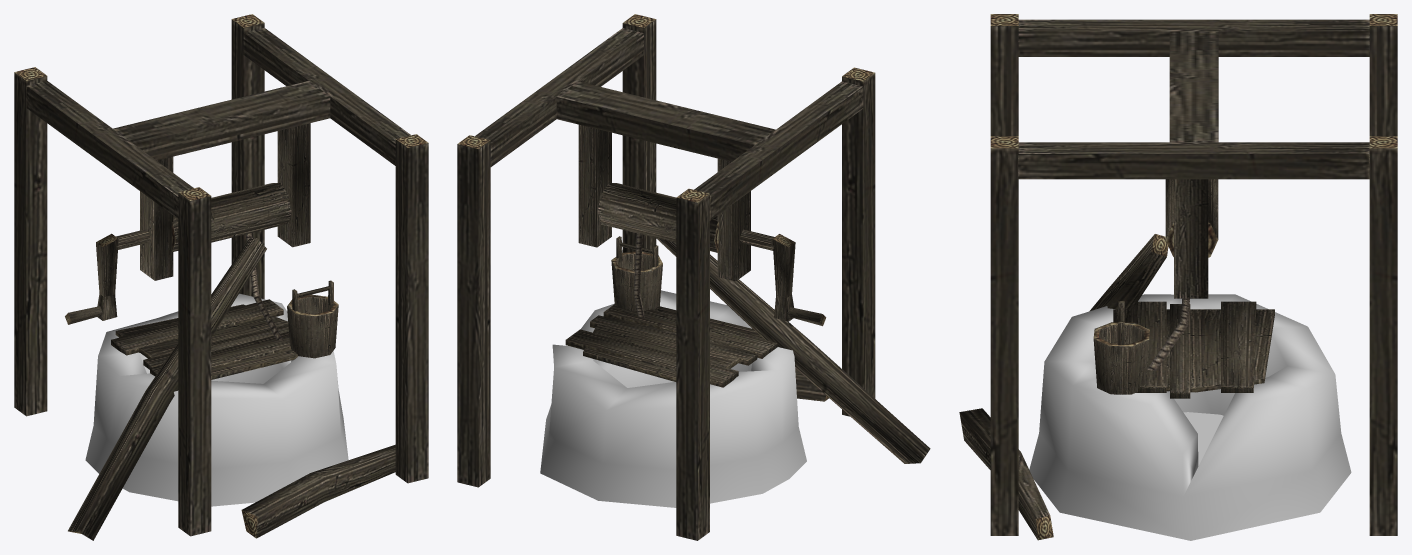
File: Wells02_Parts_LostTemple_001.FBX
3 views of the same model, side by side, from view 1: azimuth 30°, elevation 25°; view 2: azimuth 150°, elevation 25°; view 3: azimuth 270°, elevation 25° (orthographic). The views are drawn at different scales.
Parts seen in each view (by area): view 1: Wells02_Parts_LostTemple_001; view 2: Wells02_Parts_LostTemple_001; view 3: Wells02_Parts_LostTemple_001.
Part boxes in pixels (bbox=[...]): Wells02_Parts_LostTemple_001: bbox=[14, 14, 428, 540]; Wells02_Parts_LostTemple_001: bbox=[457, 14, 930, 540]; Wells02_Parts_LostTemple_001: bbox=[959, 14, 1397, 540].
Bounding box in the file's own units: 489 × 497 × 495.
